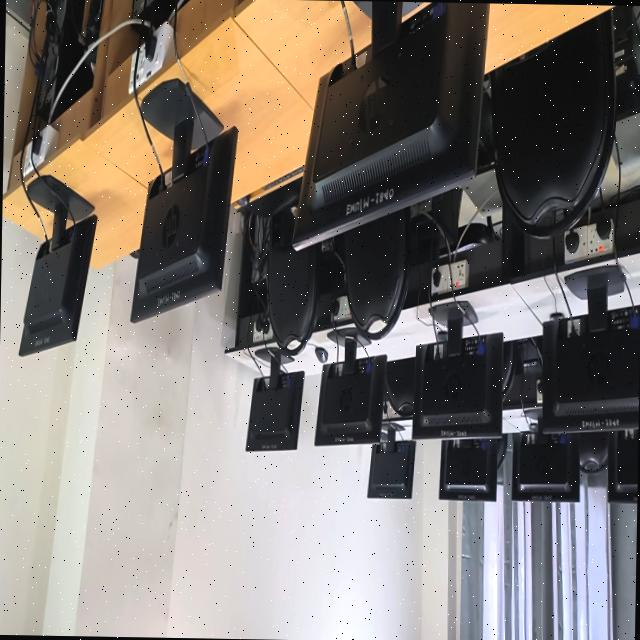Chair: (491, 10, 615, 239), (244, 178, 320, 357), (341, 209, 410, 340), (566, 432, 608, 474), (385, 358, 414, 416), (501, 341, 514, 397), (496, 434, 507, 472)
Monitor: (292, 1, 489, 249), (131, 79, 237, 323), (541, 265, 640, 433), (19, 176, 97, 355), (412, 301, 502, 439), (315, 329, 386, 445), (512, 408, 579, 501), (246, 348, 304, 450), (439, 441, 498, 501), (367, 429, 415, 498), (607, 430, 638, 503)
Mouse: (315, 347, 328, 364)
